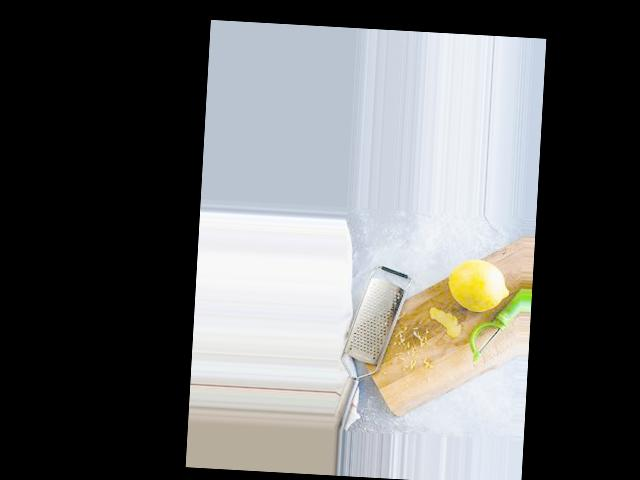lemon: (437, 251, 514, 323)
